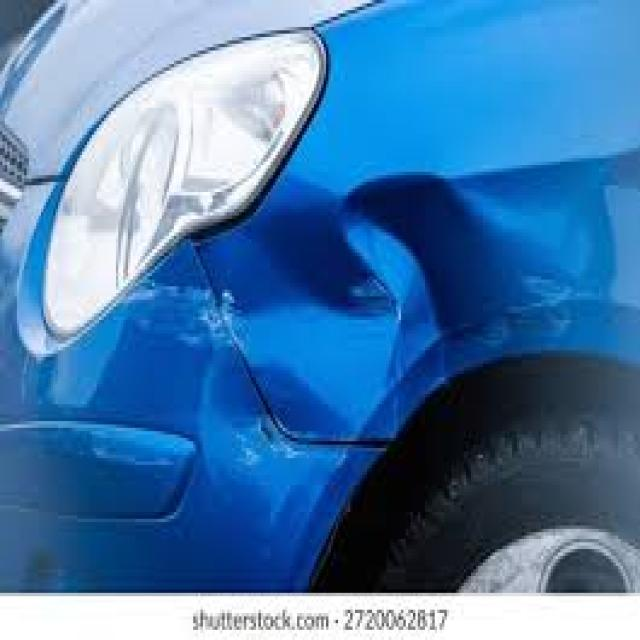Dent: (201, 159, 639, 441)
